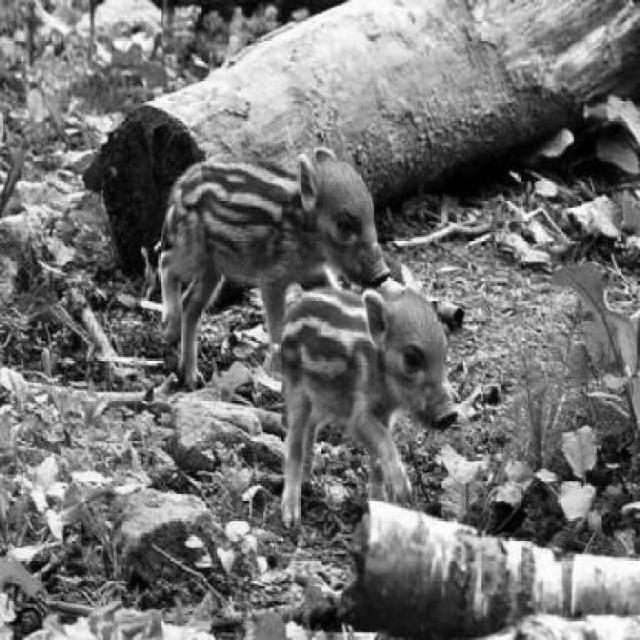Boar: (103, 114, 400, 355), (255, 272, 472, 485)
